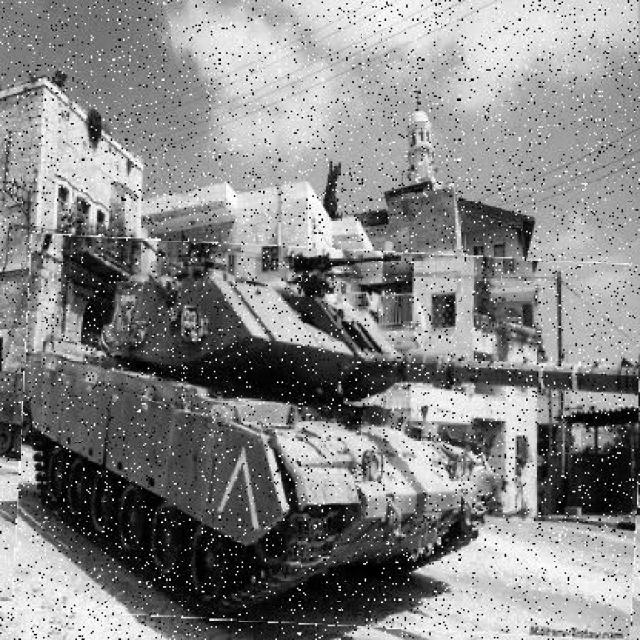Tank: (18, 243, 639, 634)
